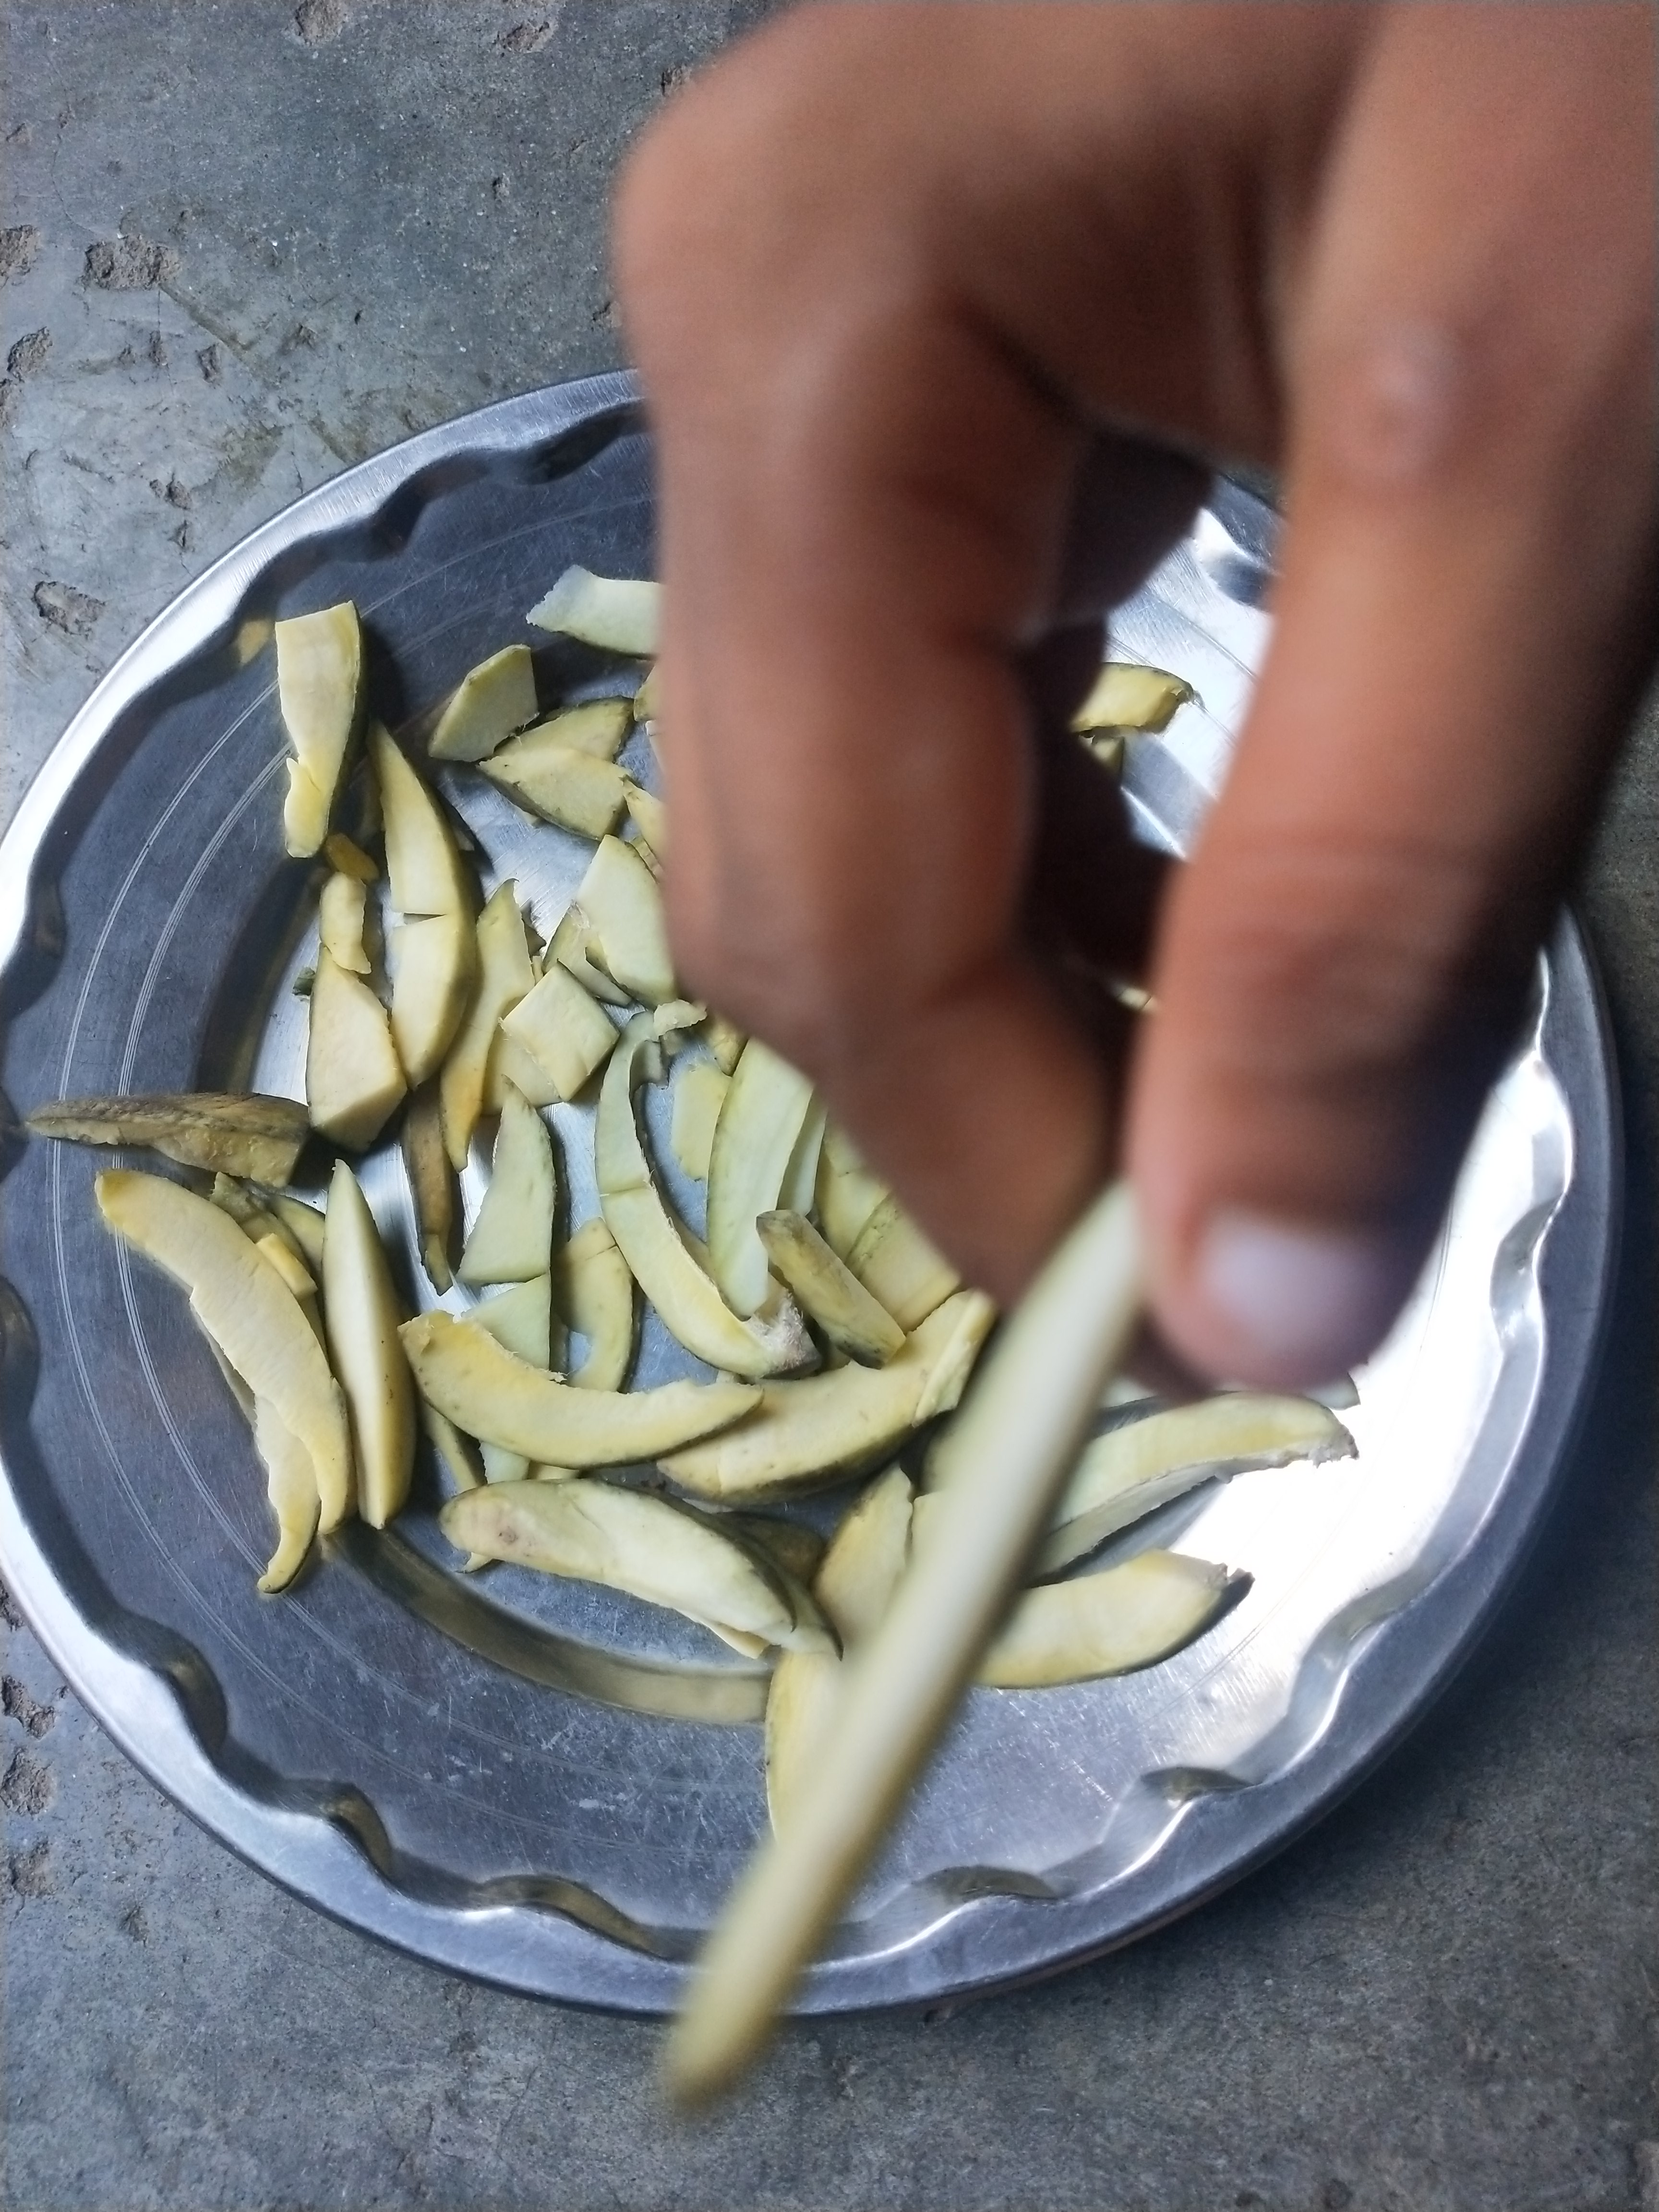food: (18, 542, 1375, 2140)
